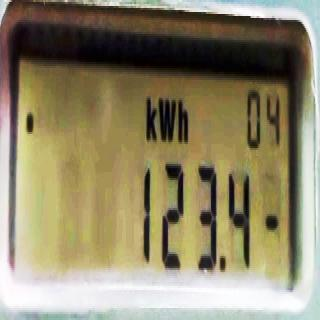-: (265, 205, 278, 237), (218, 247, 227, 278), (25, 109, 34, 138)
0: (246, 85, 261, 151)
1: (143, 163, 152, 268)
2: (159, 154, 187, 280)
3: (194, 158, 219, 282)
4: (227, 166, 252, 281), (266, 86, 282, 156)
